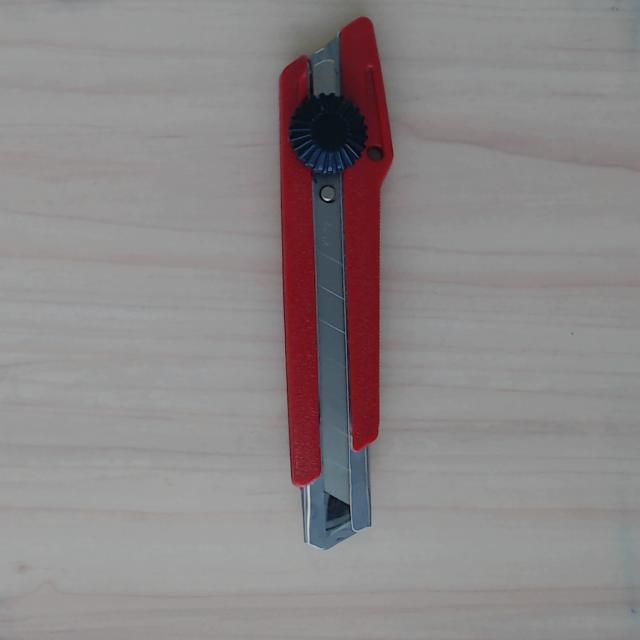Cutter-Besar: (276, 17, 394, 549)
